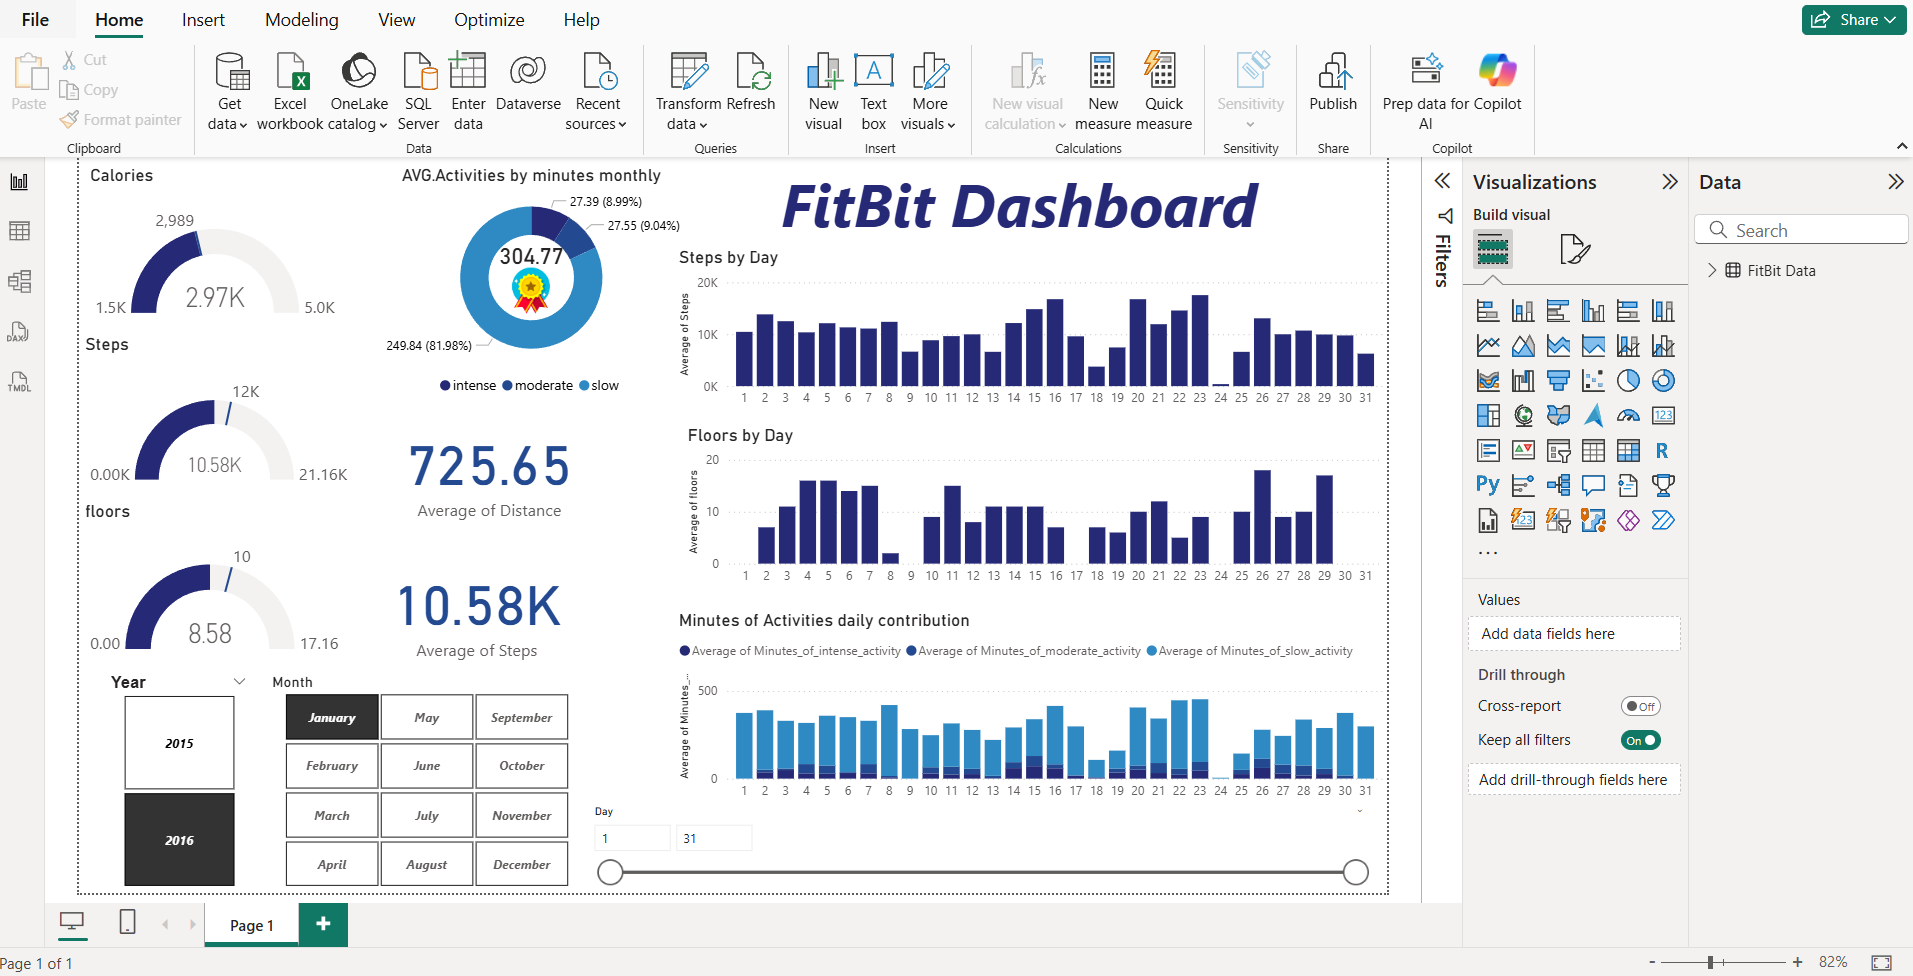

Layout of this report page (visuals, bound fields, positions):
{"tool":"powerbi","page":{"name":"Page 1","canvas":[1280,720],"ordinal":0},"visuals":[{"type":"slicer","fields":{"Values":["FitBit Data.Date.Variation.Date Hierarchy.Month"]},"box":[176.1,500.1,326.5,220.1],"z":0},{"type":"slicer","fields":{"Values":["FitBit Data.Date.Variation.Date Hierarchy.Year"]},"box":[18.3,500.1,157.7,220.1],"z":1000},{"type":"slicer","fields":{"Values":["FitBit Data.Date.Variation.Date Hierarchy.Day"]},"box":[491.6,628.5,778.9,91.7],"z":2000},{"type":"card","fields":{"Values":["Avg(FitBit Data.Distance)"]},"box":[272.7,227.4,258,157.7],"z":3000},{"type":"card","fields":{"Values":["Avg(FitBit Data.Steps)"]},"box":[260.5,364.4,258,157.7],"z":4000},{"type":"donutChart","title":"AVG.Activities by minutes monthly","fields":{"Y":["Avg(FitBit Data.Minutes_of_intense_activity)","Avg(FitBit Data.Minutes_of_moderate_activity)","Avg(FitBit Data.Minutes_of_slow_activity)"]},"box":[226.2,7.3,393.8,234.8],"z":5000},{"type":"gauge","fields":{"Y":["Avg(FitBit Data.floors)"]},"box":[1.2,336.3,262.9,163.9],"z":6000},{"type":"gauge","fields":{"Y":["Avg(FitBit Data.Steps)"]},"box":[1.2,172.4,271.5,163.9],"z":7000},{"type":"gauge","fields":{"Y":["Avg(FitBit Data.Calories)"]},"box":[6.1,7.3,254.3,163.9],"z":8000},{"type":"columnChart","title":"Steps by Day","fields":{"Y":["Avg(FitBit Data.Steps)"],"Category":["FitBit Data.Date.Variation.Date Hierarchy.Day"]},"box":[582.1,88,698.2,166.3],"z":9000},{"type":"columnChart","title":"Floors by Day","fields":{"Category":["FitBit Data.Date.Variation.Date Hierarchy.Day"],"Y":["Avg(FitBit Data.floors)"]},"box":[590.6,261.7,689.7,166.3],"z":10000},{"type":"columnChart","title":"Minutes of Activities daily contribution","fields":{"Y":["Avg(FitBit Data.Minutes_of_intense_activity)","Avg(FitBit Data.Minutes_of_moderate_activity)","Avg(FitBit Data.Minutes_of_slow_activity)"],"Category":["FitBit Data.Date.Variation.Date Hierarchy.Day"]},"box":[582.1,442.7,698.2,195.7],"z":11000},{"type":"textbox","box":[662.8,0,529.5,94.2],"z":12000},{"type":"card","fields":{"Values":["FitBit Data.total of Averages"]},"box":[374.2,66,97.8,62.4],"z":13000},{"type":"image","box":[381.5,97.8,83.2,68.5],"z":14000}]}

Visuals, with their boxes on the page's 1280x720 design canvas (x1, y1, x2, y2). These are canvas units, not pixel positions in the 1913x976 screenshot, which may show the page scaled, cropped or inside an application window:
slicer - FitBit Data.Date.Variation.Date Hierarchy.Month: region(176, 500, 503, 720)
slicer - FitBit Data.Date.Variation.Date Hierarchy.Year: region(18, 500, 176, 720)
slicer - FitBit Data.Date.Variation.Date Hierarchy.Day: region(492, 628, 1270, 720)
card - Avg(FitBit Data.Distance): region(273, 227, 531, 385)
card - Avg(FitBit Data.Steps): region(260, 364, 518, 522)
"AVG.Activities by minutes monthly" donutChart: region(226, 7, 620, 242)
gauge - Avg(FitBit Data.floors): region(1, 336, 264, 500)
gauge - Avg(FitBit Data.Steps): region(1, 172, 273, 336)
gauge - Avg(FitBit Data.Calories): region(6, 7, 260, 171)
"Steps by Day" columnChart: region(582, 88, 1280, 254)
"Floors by Day" columnChart: region(591, 262, 1280, 428)
"Minutes of Activities daily contribution" columnChart: region(582, 443, 1280, 638)
textbox: region(663, 0, 1192, 94)
card - FitBit Data.total of Averages: region(374, 66, 472, 128)
image: region(382, 98, 465, 166)
